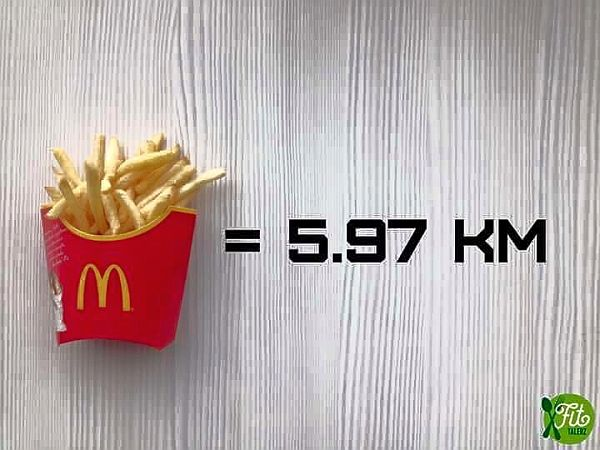mcdonalds: (70, 260, 132, 317)
